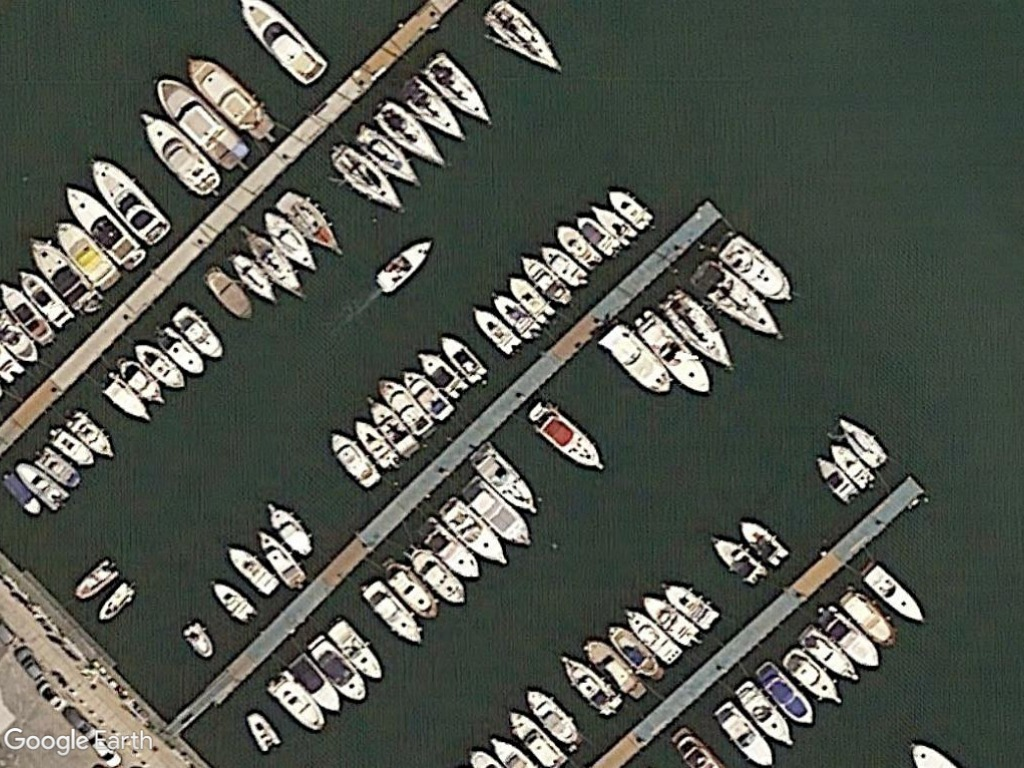boat: (149, 72, 253, 171), (182, 52, 278, 141), (236, 0, 331, 87), (686, 261, 787, 342), (59, 180, 149, 270), (83, 155, 172, 246), (635, 305, 715, 399), (138, 112, 225, 196), (477, 0, 566, 77), (660, 286, 740, 370), (711, 232, 796, 305), (526, 394, 605, 472), (418, 48, 493, 129), (599, 319, 674, 400), (460, 472, 535, 553), (27, 235, 102, 315), (324, 143, 407, 212), (370, 99, 450, 169), (434, 496, 510, 569), (471, 439, 541, 517), (243, 225, 310, 303), (577, 631, 648, 702), (811, 603, 883, 673), (396, 75, 470, 142), (52, 219, 121, 290), (732, 677, 799, 749), (402, 542, 471, 611), (707, 698, 776, 767), (859, 559, 929, 627), (352, 124, 425, 188), (416, 518, 485, 585), (275, 189, 346, 254), (371, 375, 442, 440), (555, 650, 622, 718), (750, 660, 816, 729), (360, 577, 425, 647), (834, 585, 904, 650), (326, 611, 389, 683), (306, 633, 369, 704), (791, 624, 863, 686), (774, 644, 845, 706), (258, 209, 321, 275), (621, 603, 685, 667), (503, 705, 568, 768), (380, 556, 442, 621), (523, 683, 582, 749), (267, 666, 328, 729), (655, 579, 723, 634), (286, 650, 344, 714), (635, 594, 703, 648), (362, 400, 423, 460), (198, 263, 257, 324), (0, 280, 57, 343), (374, 236, 433, 296), (606, 621, 665, 681), (15, 266, 73, 327), (259, 498, 315, 561), (328, 428, 384, 491), (485, 287, 543, 347), (397, 366, 462, 419), (169, 305, 228, 363), (516, 252, 575, 308), (707, 531, 766, 587), (58, 407, 118, 462), (225, 250, 283, 306), (412, 347, 473, 399), (253, 530, 308, 587), (113, 354, 171, 407), (152, 325, 207, 380), (221, 542, 277, 596), (131, 340, 189, 392), (96, 372, 154, 424), (13, 460, 72, 511), (500, 273, 561, 322), (437, 333, 492, 387), (834, 415, 888, 470), (467, 305, 523, 358), (347, 414, 401, 468), (738, 513, 790, 569), (552, 221, 606, 274), (535, 240, 592, 289), (809, 454, 861, 506), (823, 441, 877, 491), (70, 553, 119, 603), (31, 441, 82, 489), (587, 201, 639, 248), (204, 577, 258, 622), (604, 185, 655, 232), (43, 427, 97, 470), (94, 578, 137, 626), (570, 214, 622, 253), (243, 710, 284, 755), (178, 620, 220, 661)
car: (10, 645, 47, 681)
